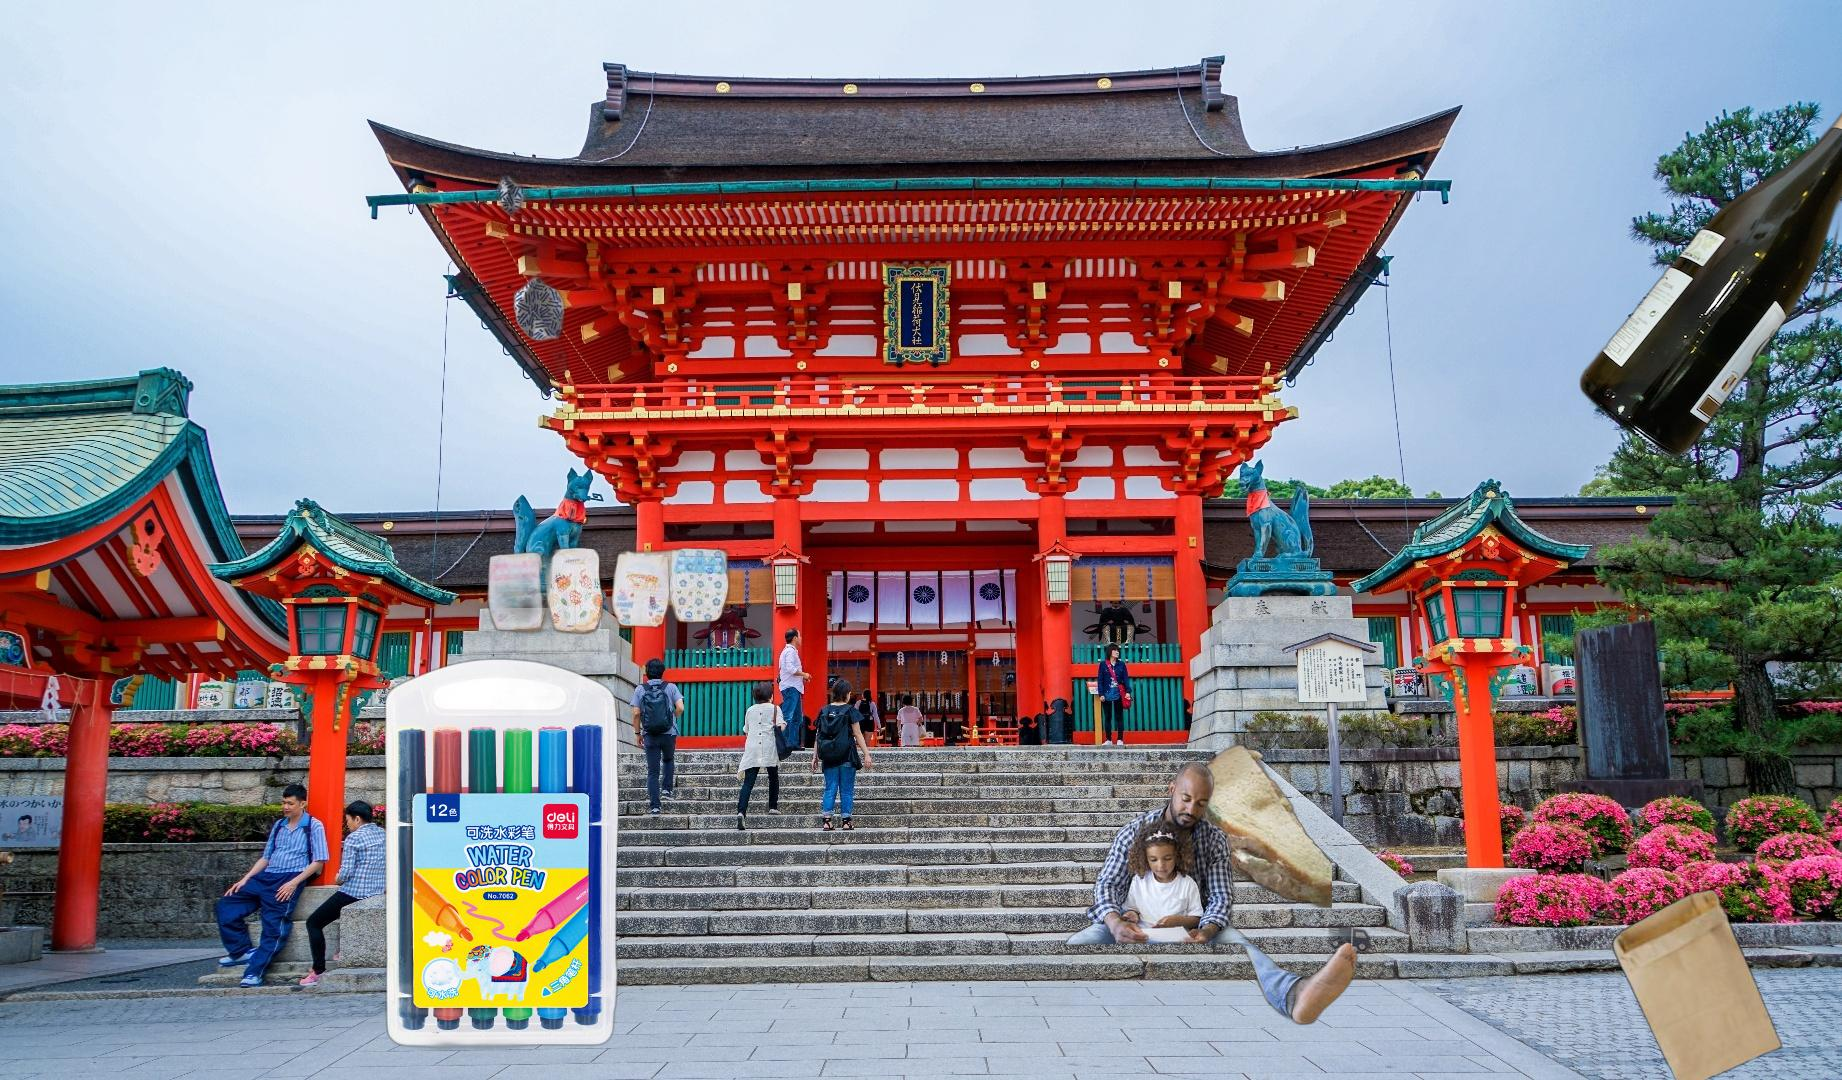biological: (1193, 742, 1332, 919)
glass: (1575, 63, 1842, 465)
paper: (494, 144, 573, 396)
paper-bag: (1609, 886, 1784, 1080)
penholder: (301, 657, 621, 1052)
trash: (474, 541, 749, 724)
trashbox-cardboard: (963, 759, 1375, 1026)
